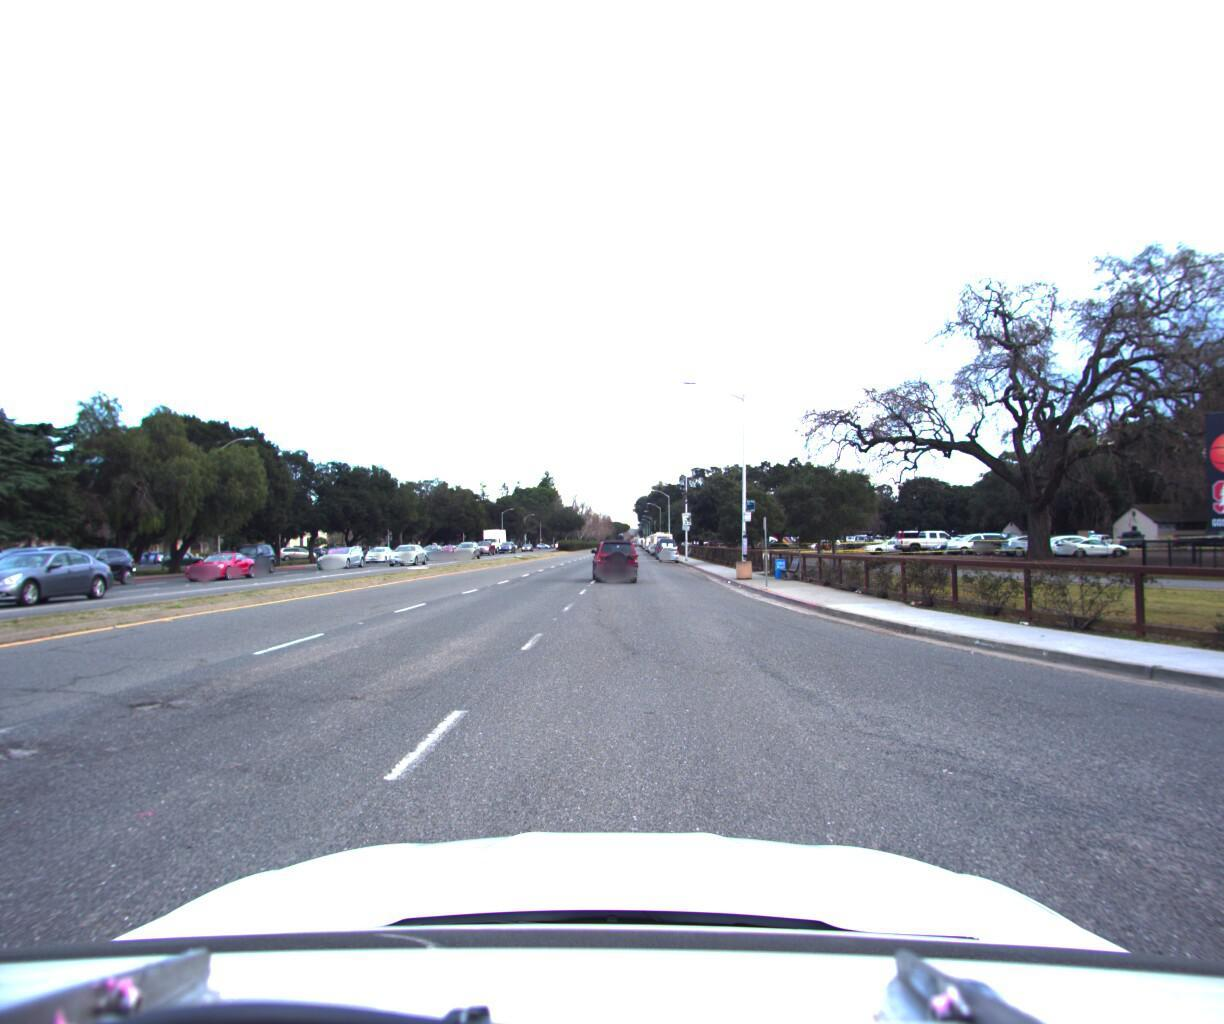car: (0, 541, 122, 614), (0, 541, 100, 604), (30, 541, 143, 587), (181, 545, 265, 577), (585, 533, 639, 580), (221, 538, 286, 571), (312, 541, 366, 565), (385, 540, 431, 562), (360, 539, 396, 556), (450, 537, 481, 557), (652, 530, 675, 553), (656, 538, 678, 555)
